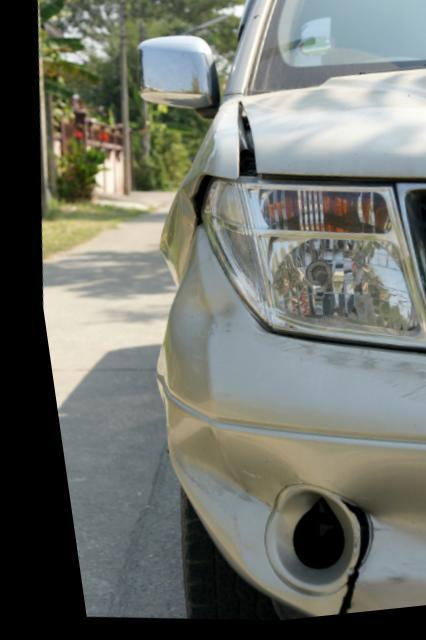crack: (317, 504, 355, 620)
dent: (153, 428, 283, 571), (320, 465, 426, 591), (168, 300, 226, 345)
no part: (278, 507, 326, 570)
scratch: (247, 334, 426, 414)
